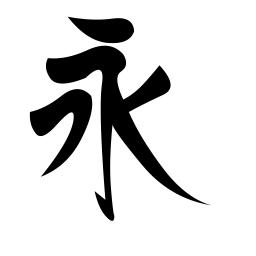D: (65, 13, 136, 43)
HSZ: (86, 45, 128, 81)
Hs: (44, 54, 81, 85)
Ne: (162, 175, 213, 208)
PNc: (118, 86, 138, 129)
PZe: (39, 150, 69, 179)
Ps: (144, 63, 174, 96)
SG: (92, 187, 116, 223)
Sm: (99, 140, 114, 173)
TPZ: (62, 88, 93, 129)
Ts: (28, 105, 55, 137)
